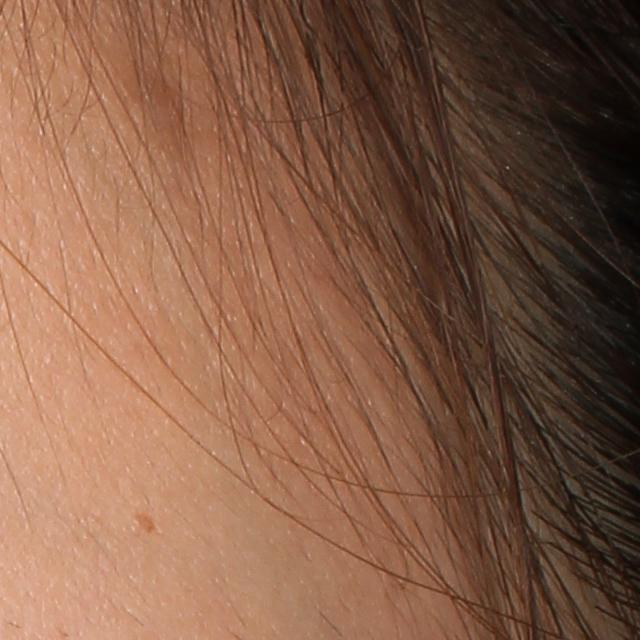melasma: (133, 511, 165, 538)
